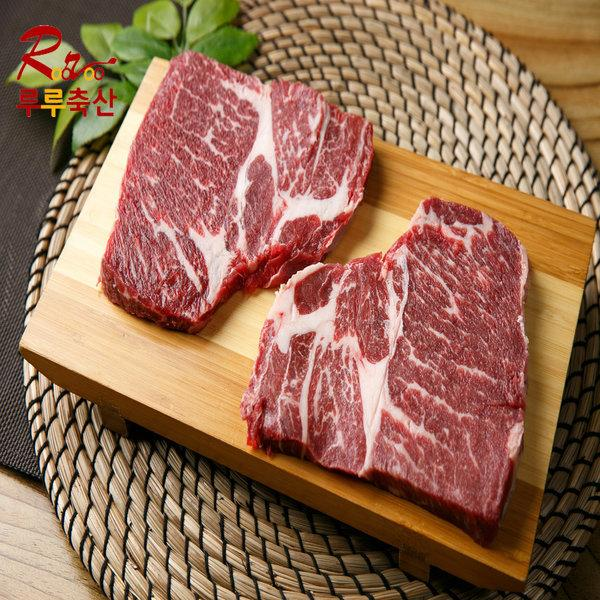beef: (232, 183, 497, 507), (107, 53, 351, 309)
